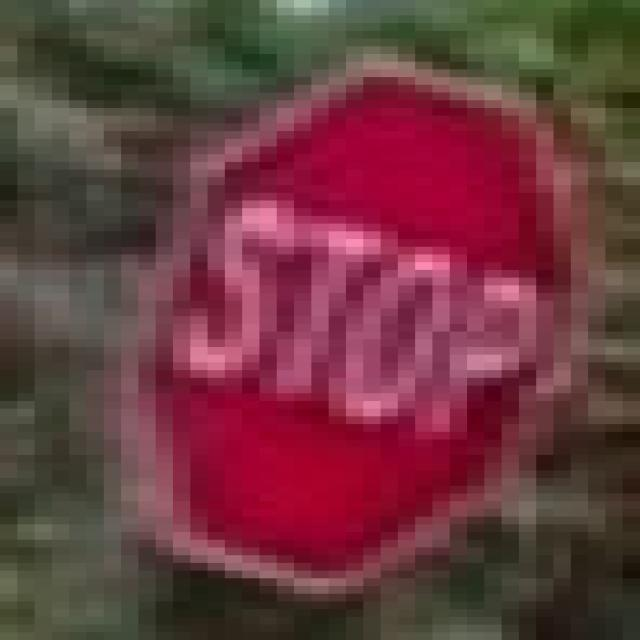Stop-Sign: (196, 70, 540, 564)
